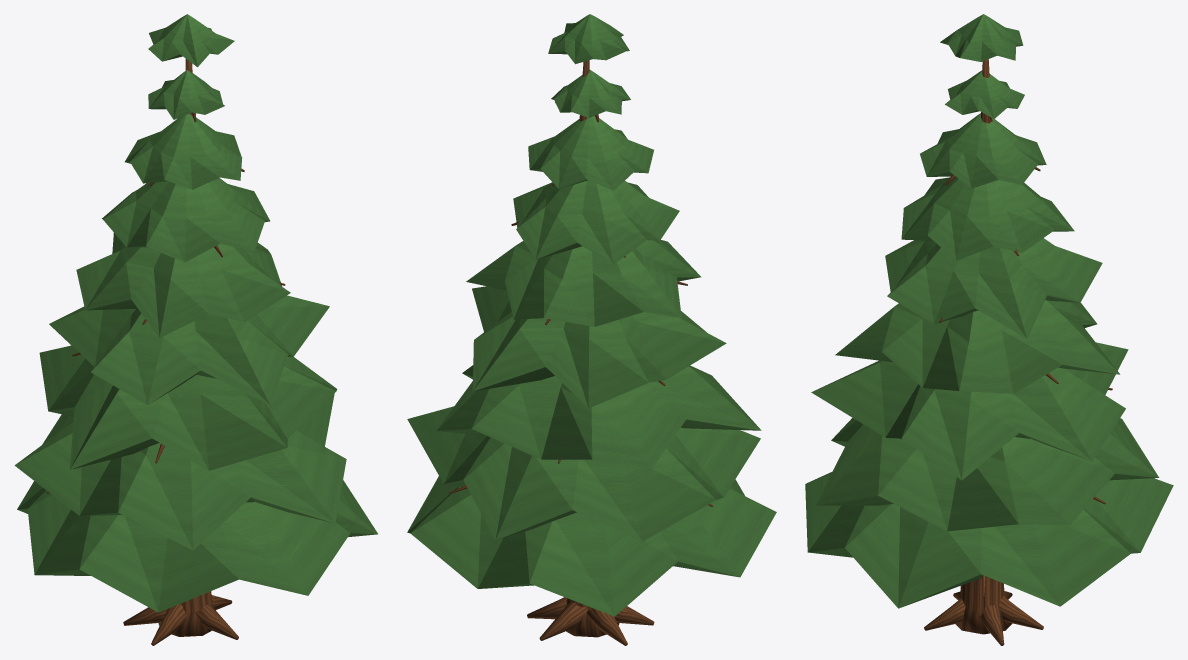
The model's file is FacetedFir.fbx.
3 renders of one model, left to right at view 1: azimuth 30°, elevation 25°; view 2: azimuth 150°, elevation 25°; view 3: azimuth 270°, elevation 25°, orthographic.
Visible parts, largest first — view 1: SM_FacetedFir_Foliage_LOD0, SM_FacetedFir_Bark_LOD0; view 2: SM_FacetedFir_Foliage_LOD0, SM_FacetedFir_Bark_LOD0; view 3: SM_FacetedFir_Foliage_LOD0, SM_FacetedFir_Bark_LOD0.
Boxes of the visible parts, x1,y1,x2,y2 form: SM_FacetedFir_Foliage_LOD0: [14, 14, 377, 612]; SM_FacetedFir_Bark_LOD0: [46, 59, 285, 645]; SM_FacetedFir_Foliage_LOD0: [407, 14, 776, 616]; SM_FacetedFir_Bark_LOD0: [449, 17, 712, 645]; SM_FacetedFir_Foliage_LOD0: [805, 14, 1173, 608]; SM_FacetedFir_Bark_LOD0: [924, 17, 1112, 645].
Size of what is drawn, in the model's own units: 4.58 by 8.44 by 4.64.
Materials: 2 (2 with a texture image).
